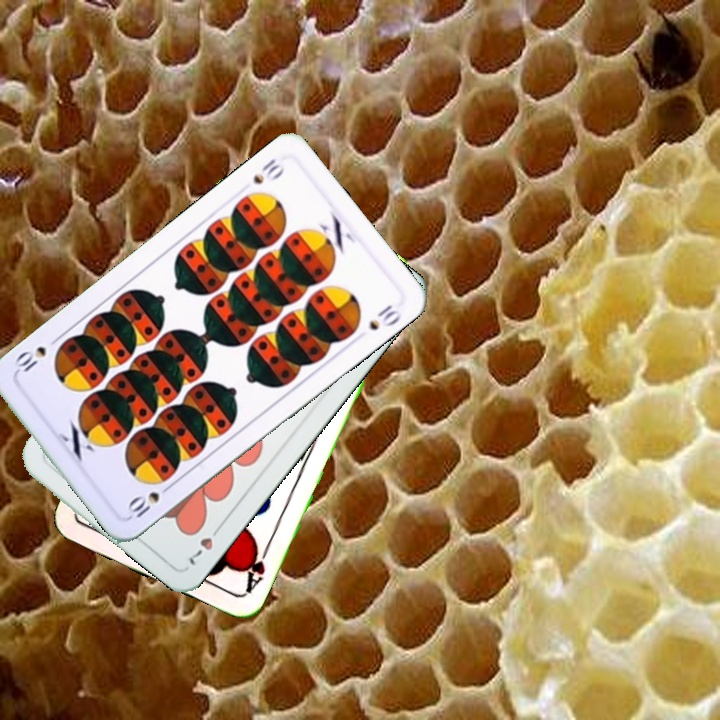H7: (185, 519, 225, 568)
HA: (240, 540, 273, 596)
S10: (123, 479, 176, 523), (248, 154, 288, 187)
